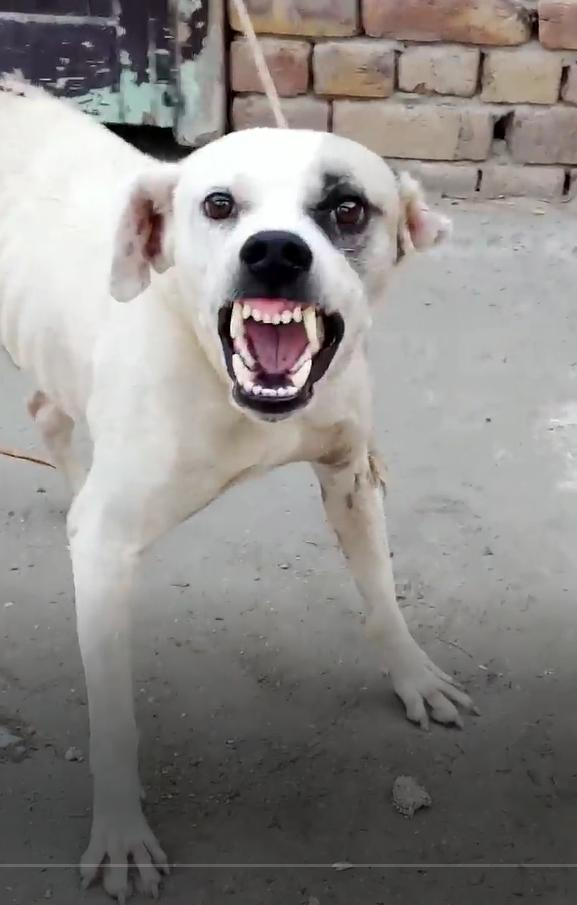dog_aggressive: (3, 15, 518, 897)
